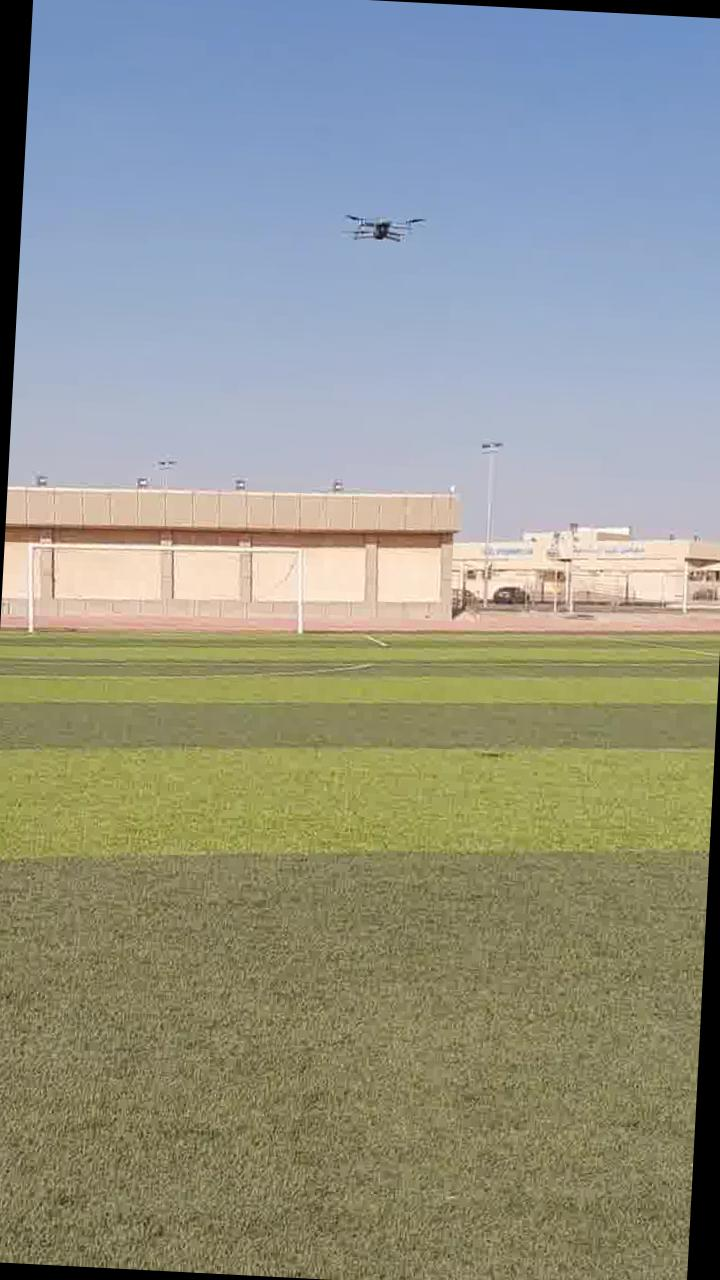drone: (333, 197, 417, 261)
